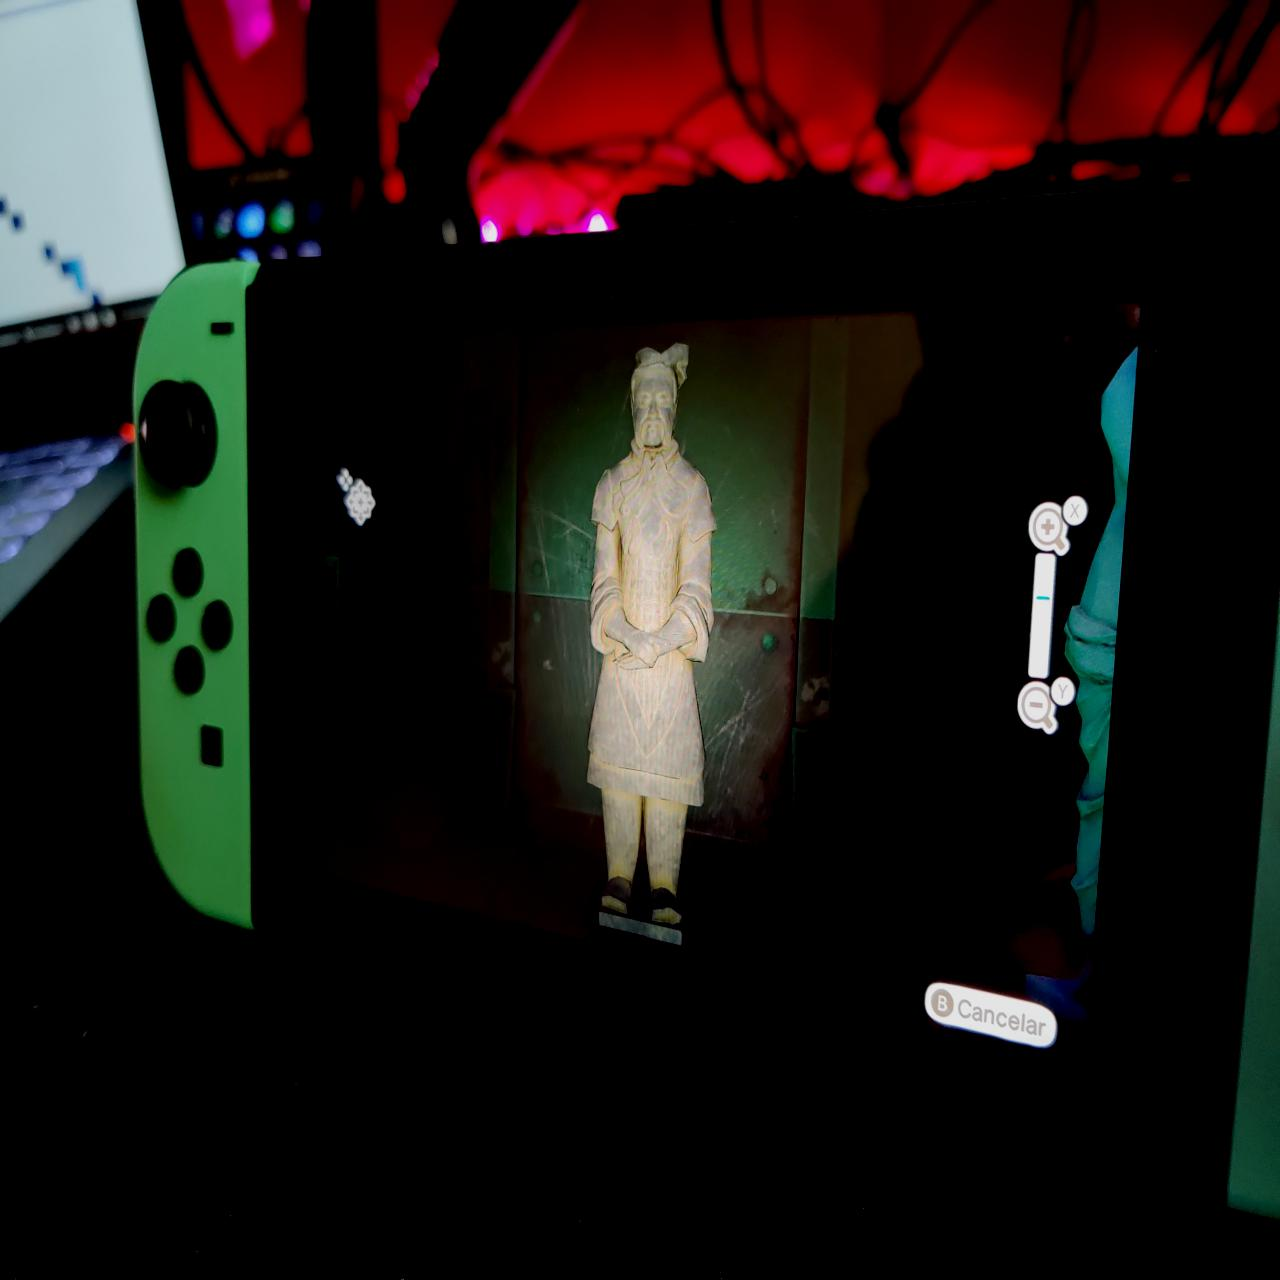Heibayo: (585, 338, 723, 953)
